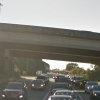Bridge: (2, 12, 97, 67)
